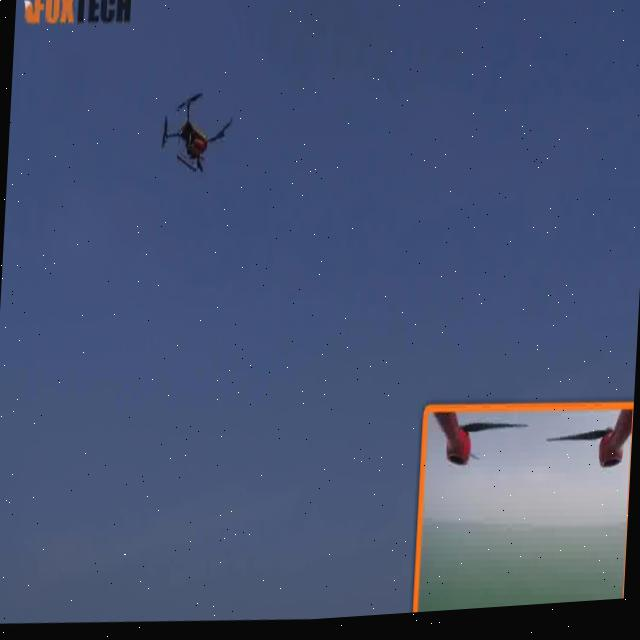drone: (154, 83, 234, 196)
